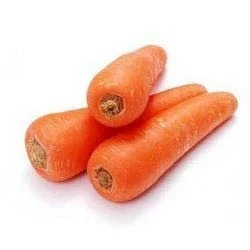carrot: (68, 36, 186, 128)
